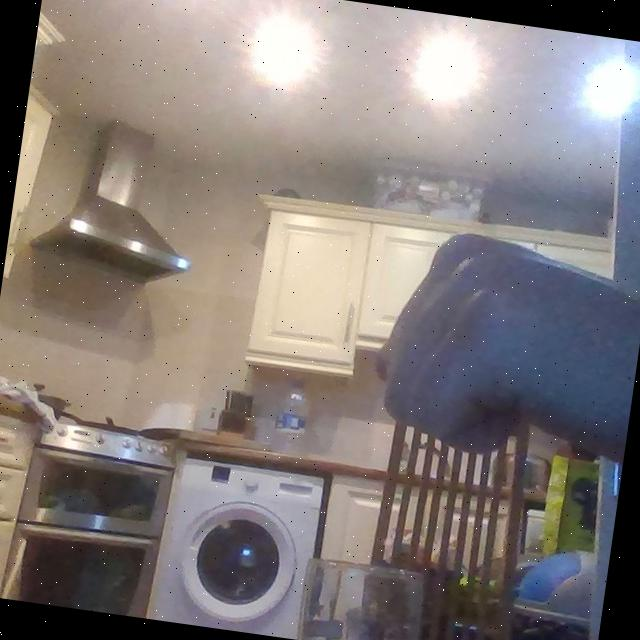rock: (360, 223, 630, 474)
